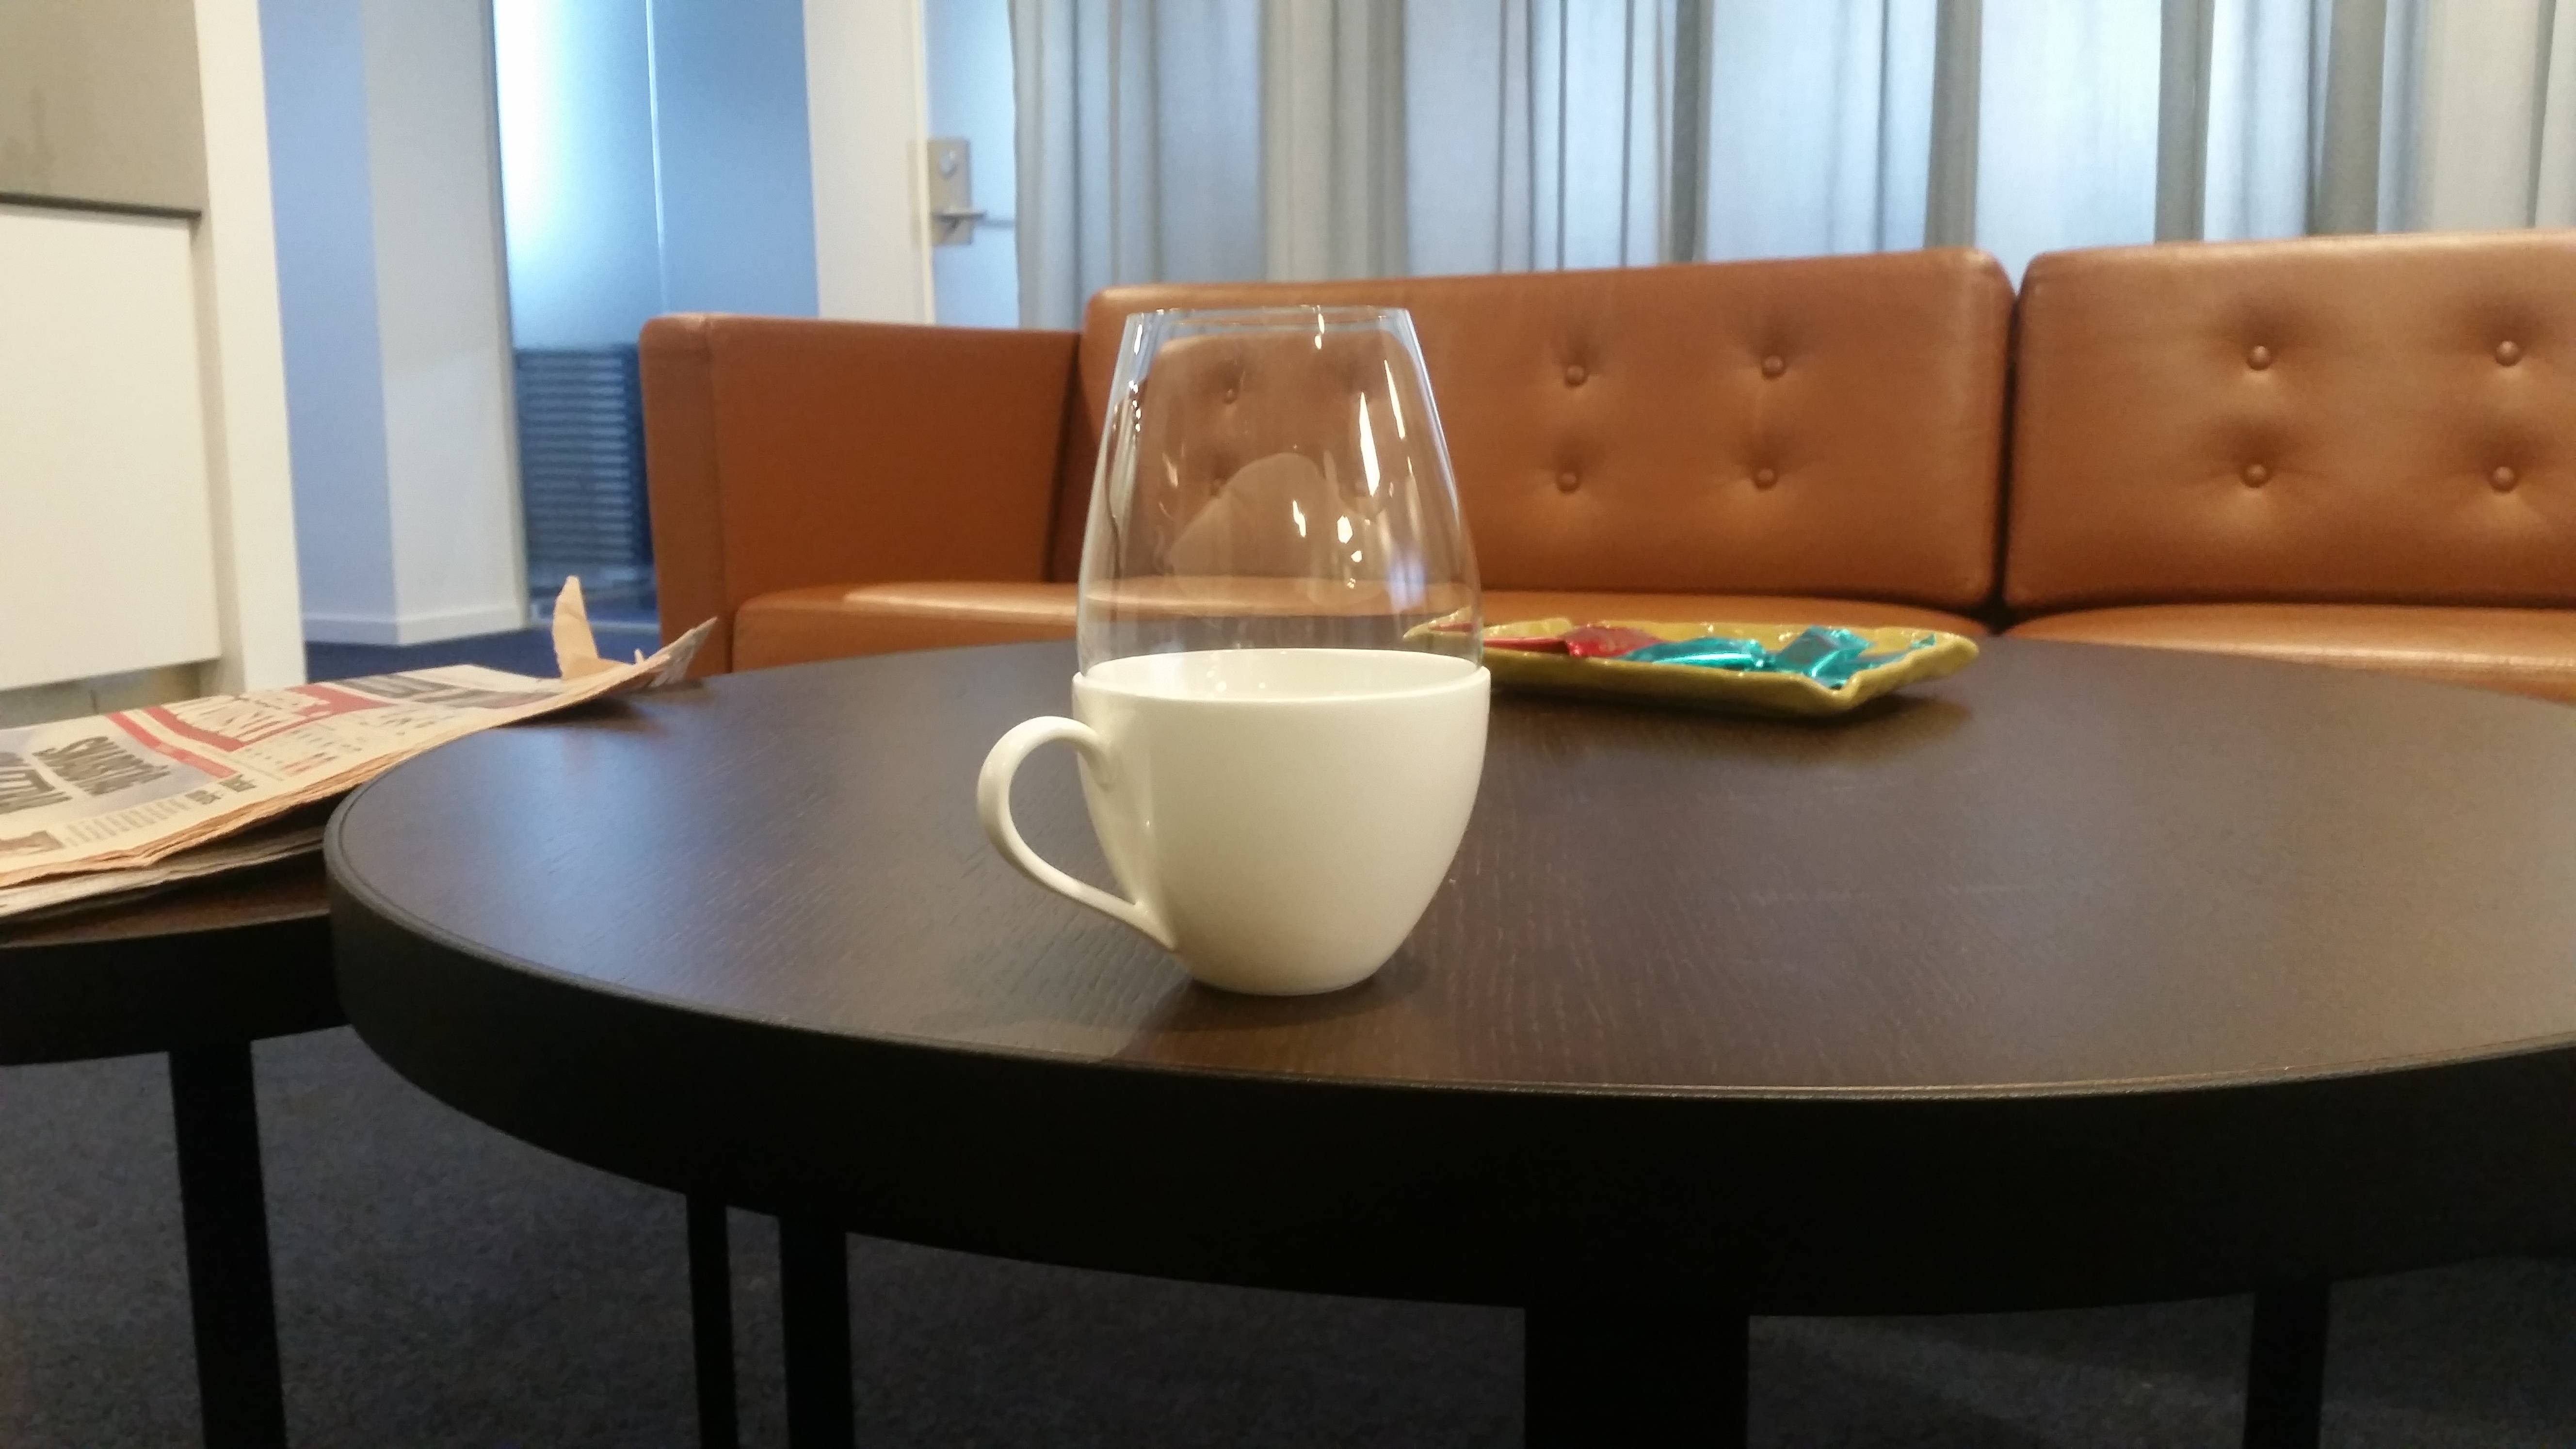glass of milk: (1150, 350, 1447, 1001)
